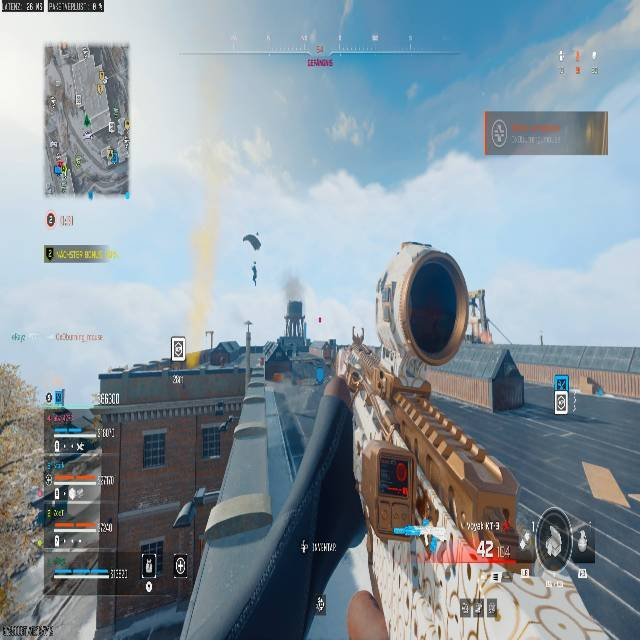player: (322, 338, 337, 363), (249, 261, 258, 285)
